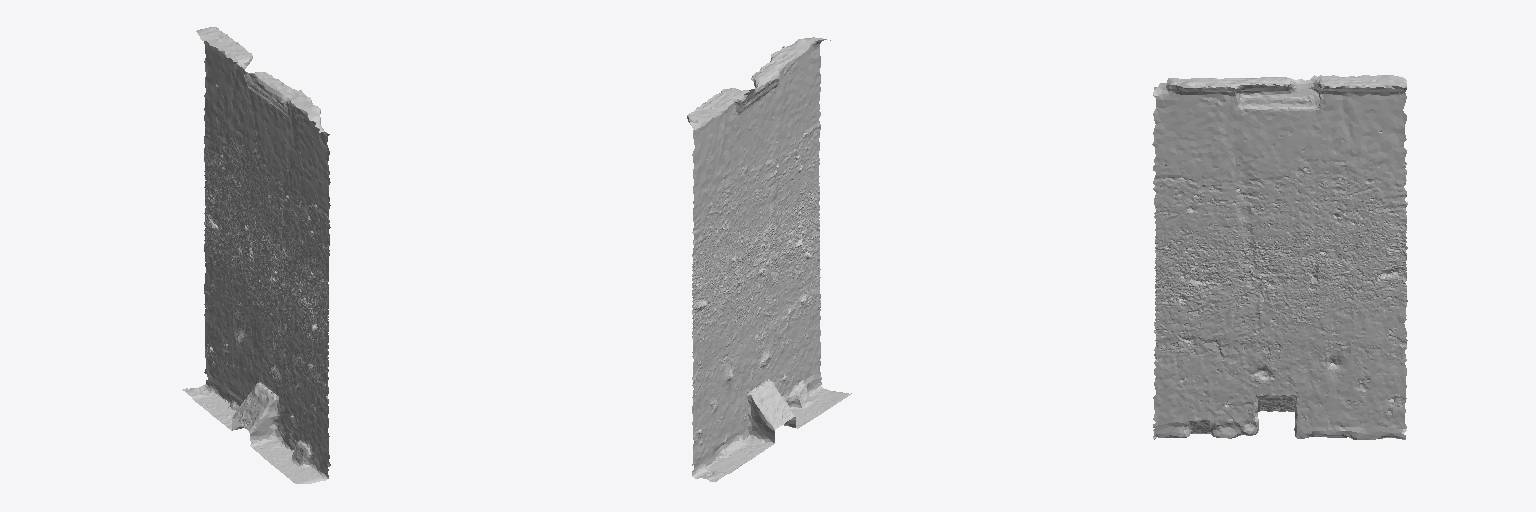
Rendered from ARdemo.obj.
3 views of the same model, side by side, from view 1: azimuth 30°, elevation 25°; view 2: azimuth 150°, elevation 25°; view 3: azimuth 270°, elevation 25° (orthographic).
Visible parts, largest first — view 1: Mesh_0.001; view 2: Mesh_0.001; view 3: Mesh_0.001.
Boxes of the visible parts, <box> form: Mesh_0.001: <box>182,27,330,483</box>; Mesh_0.001: <box>687,37,851,481</box>; Mesh_0.001: <box>1152,75,1407,439</box>.
Bounding box in the file's own units: 0.3526 × 2.81 × 1.8.